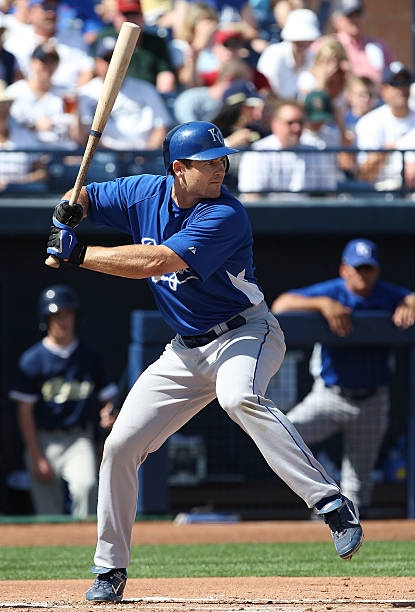bita: (48, 19, 143, 254)
